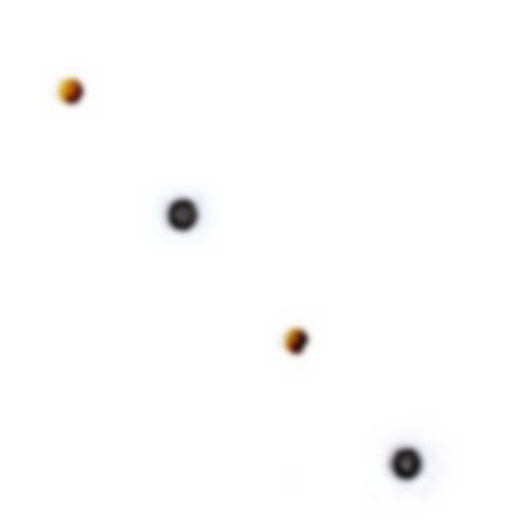cancer: (138, 171, 235, 262), (379, 430, 439, 495)
normal: (273, 317, 328, 364), (42, 73, 98, 117)
